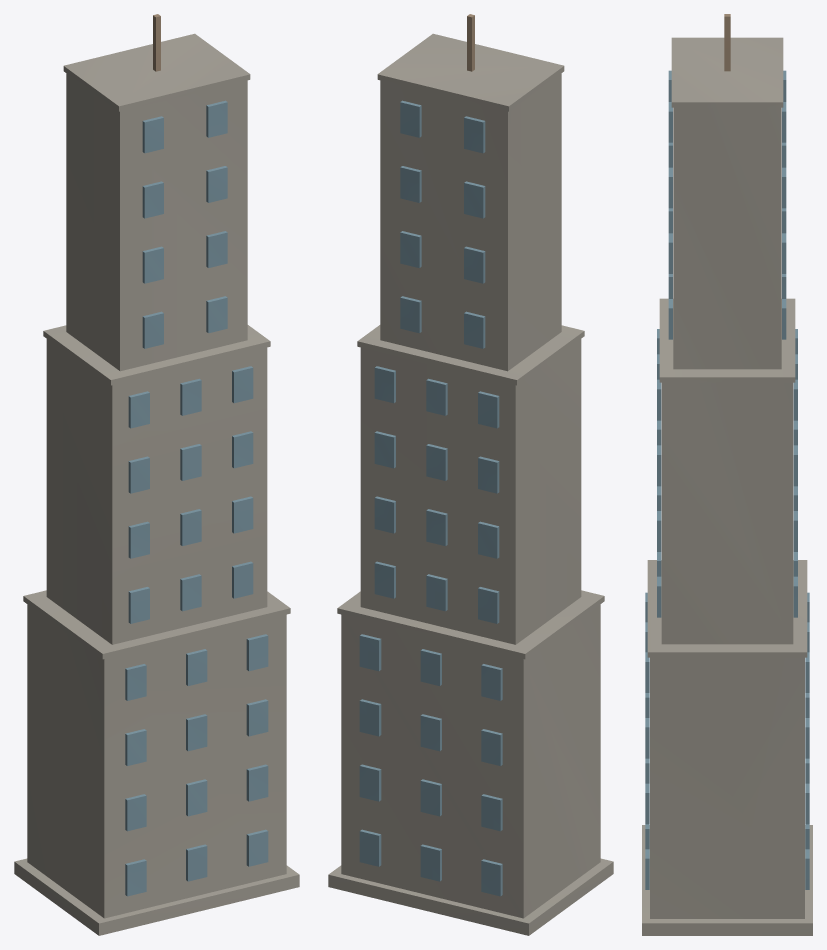
The model's file is tower-01.glb.
The picture shows the model from 3 angles, left to right: view 1: azimuth 30°, elevation 25°; view 2: azimuth 150°, elevation 25°; view 3: azimuth 270°, elevation 25°; orthographic projection.
Visible parts, largest first — view 1: world; view 2: world; view 3: world.
Boxes of the visible parts, box(x1,y1,x2,y2) form: world: box(14, 14, 299, 935); world: box(328, 14, 613, 935); world: box(642, 14, 812, 935).
Bounding box in the file's own units: 1.35 × 5.57 × 0.99.
